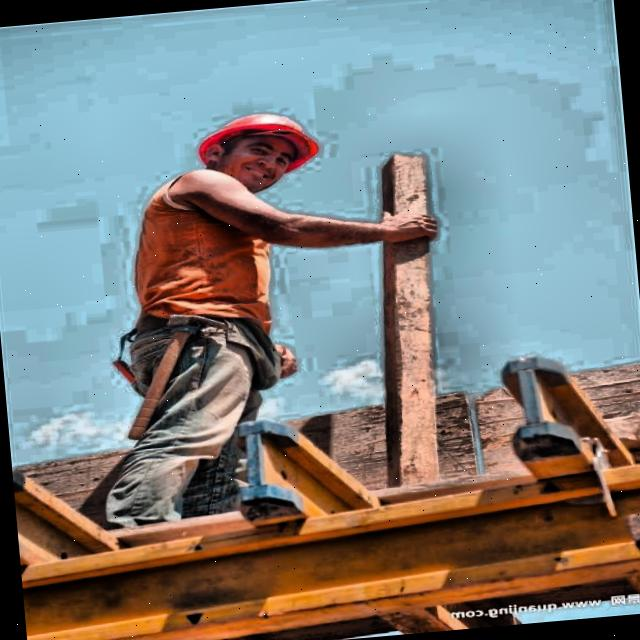helmet: (170, 94, 344, 206)
